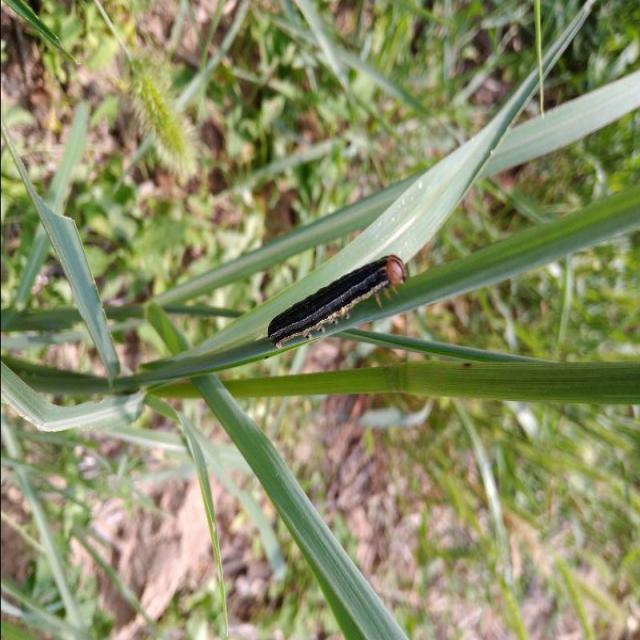army worm: (267, 250, 410, 358)
